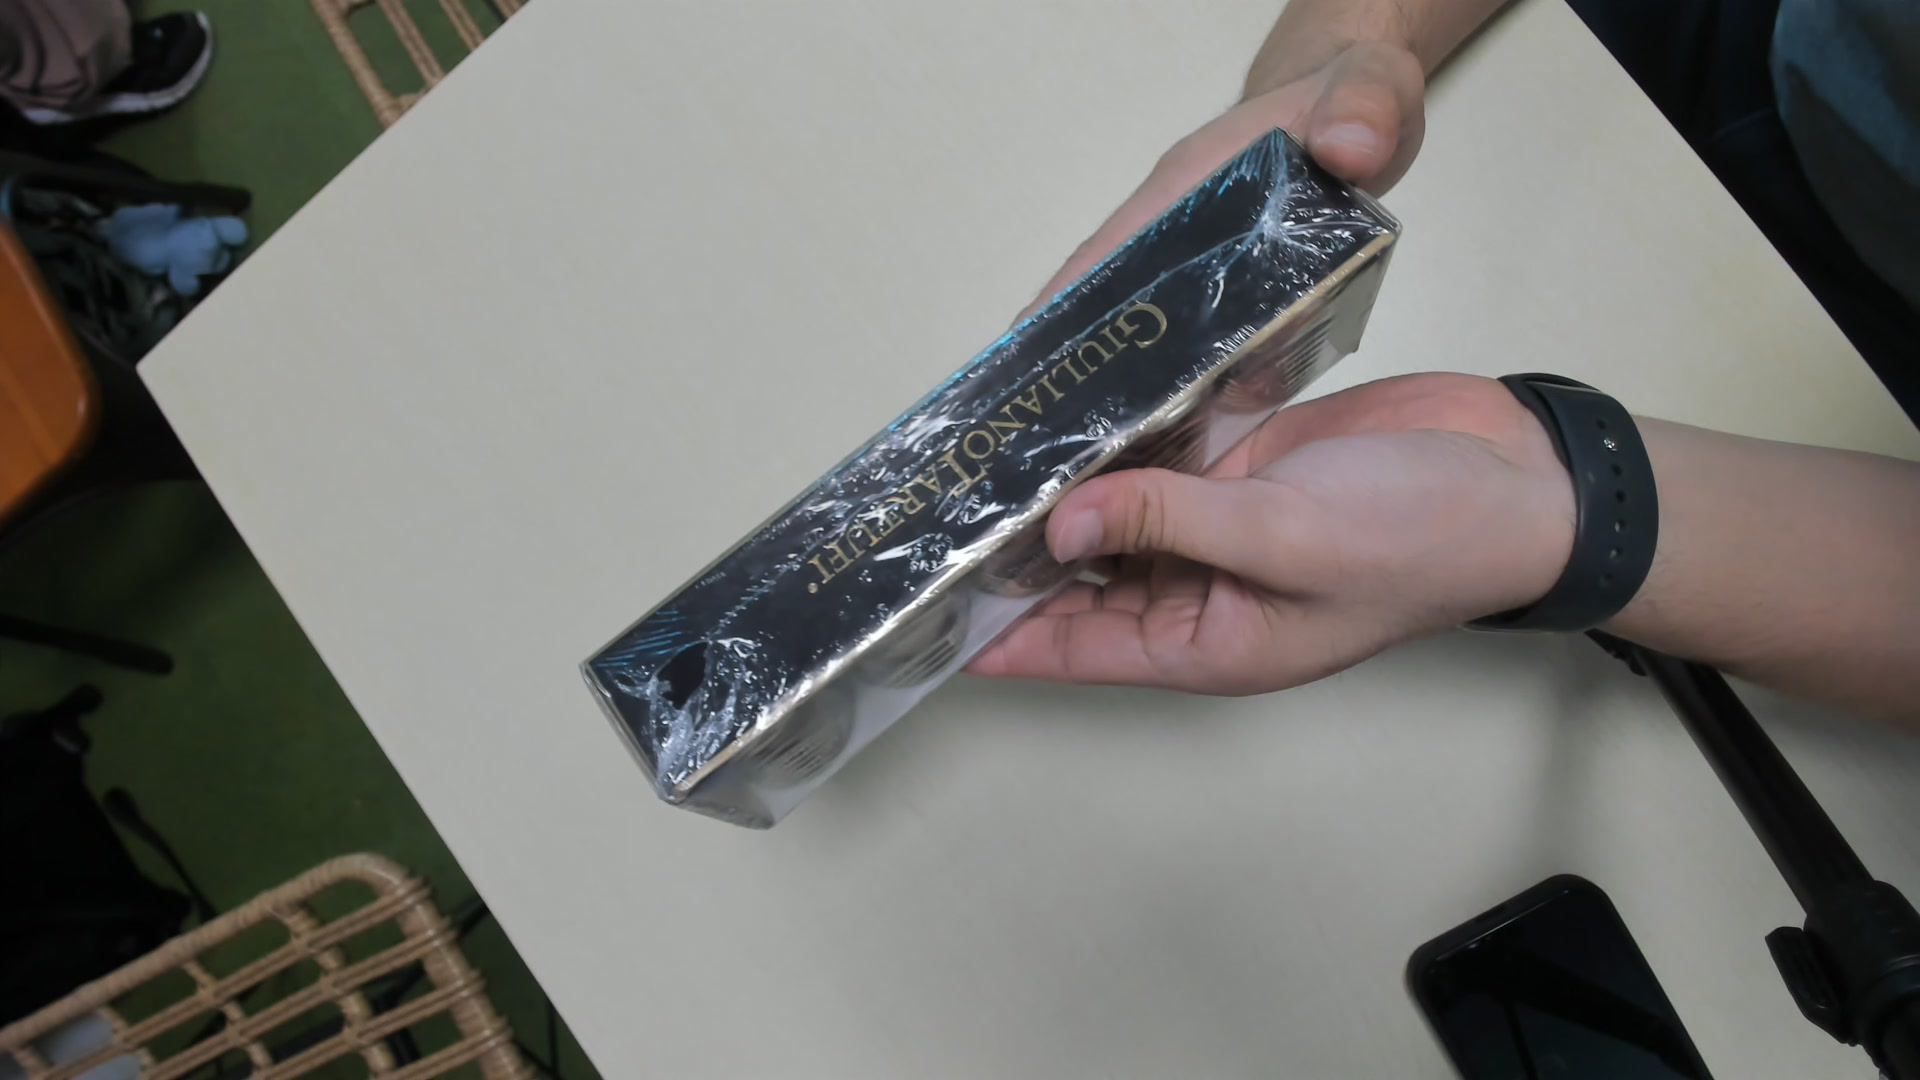OtherSauceDressing_500-599g_NonHalal_NonHealthy: (574, 127, 1393, 837)
